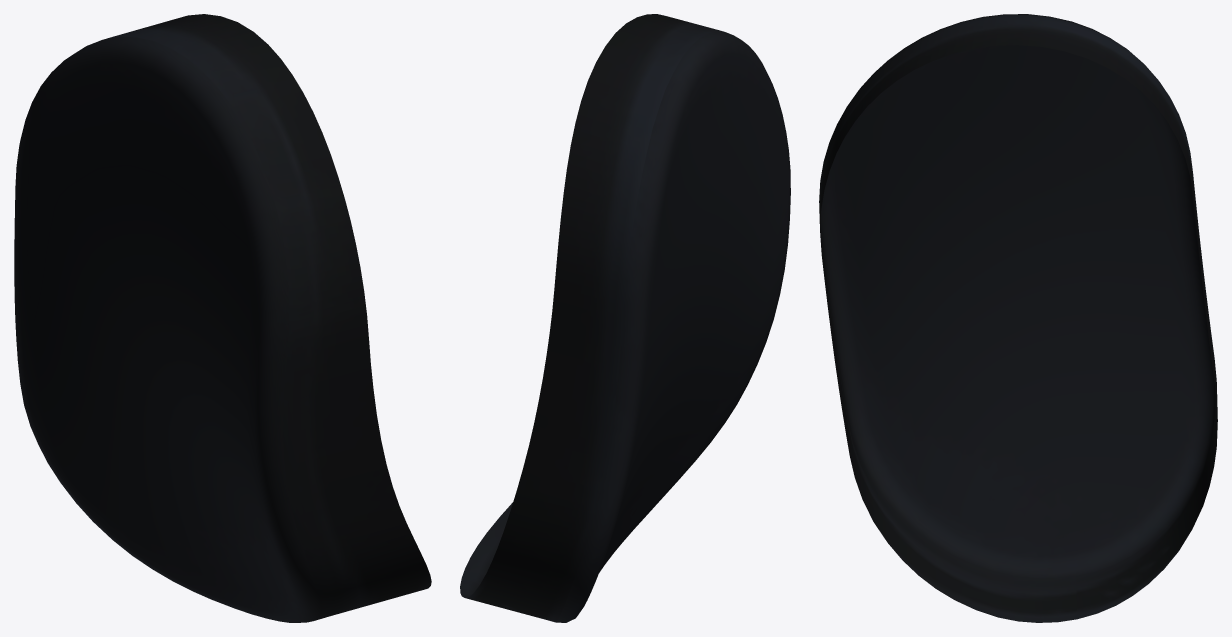
File: playstation_vr2_sense_right_r1.obj
3 renders of one model, left to right at view 1: azimuth 30°, elevation 25°; view 2: azimuth 150°, elevation 25°; view 3: azimuth 270°, elevation 25°, orthographic. The views are drawn at different scales.
Visible parts, largest first — view 1: mesh_R1_button_R; view 2: mesh_R1_button_R; view 3: mesh_R1_button_R.
Boxes of the visible parts, x1,y1,x2,y2 form: mesh_R1_button_R: [14, 14, 431, 622]; mesh_R1_button_R: [460, 14, 790, 622]; mesh_R1_button_R: [819, 14, 1217, 622].
Bounding box in the file's own units: 0.0108 × 0.0224 × 0.0156.
Materials: 1 (1 with a texture image).
